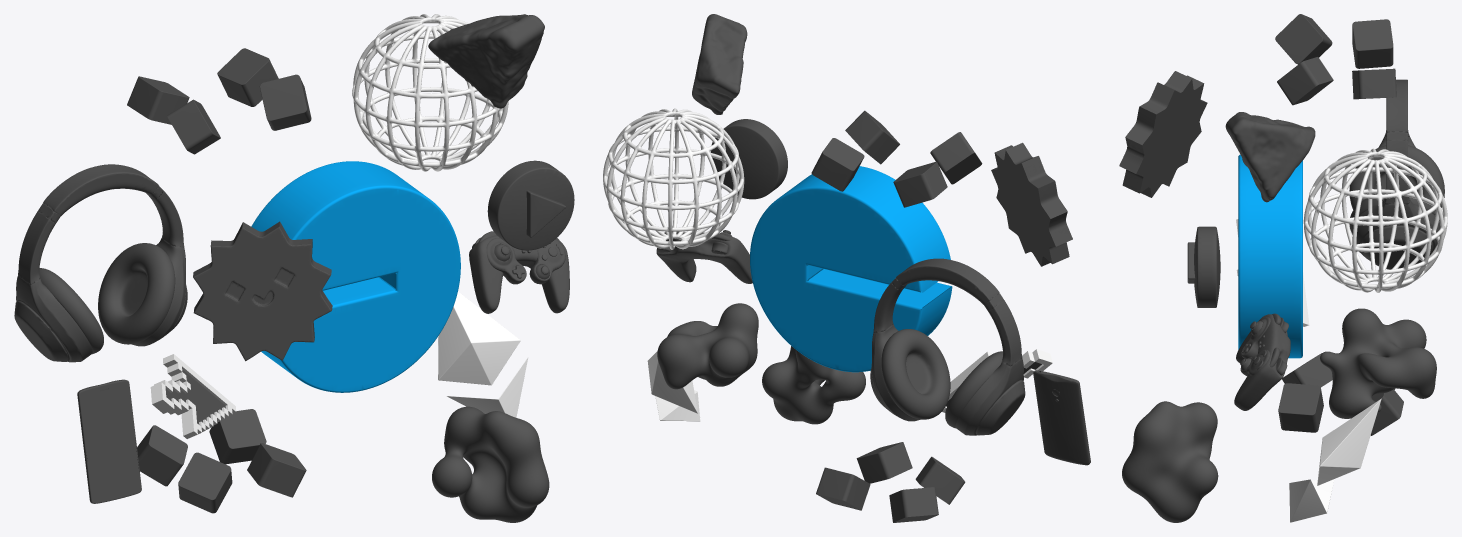
File: babylon_optimize_1.glb
3 renders of one model, left to right at view 1: azimuth 30°, elevation 25°; view 2: azimuth 150°, elevation 25°; view 3: azimuth 270°, elevation 25°, orthographic. The views are drawn at different scales.
Parts seen in each view (by area): view 1: Wallet, headphone, Spikey, Globe, Object_01, Object, ETH, Mobile Phone, Extrude, Controller, Cursor.1, Box_05 (+9 smaller); view 2: Wallet, headphone, Globe, Object_02, Boole, Object_01, Mobile Phone, Object, Extrude, Controller, ETH, Box_04 (+9 smaller); view 3: Globe, Wallet, Object_01, Object_02, headphone, Boole, Object, ETH, Controller, Extrude, Box_06, Box_03 (+6 smaller).
Part boxes in pixels (x1,y1,x2,y2): Wallet: (251,161,460,392); headphone: (14,164,187,362); Spikey: (193,223,331,360); Globe: (352,14,508,171); Object_01: (432,406,549,522); Object: (428,14,544,108); ETH: (438,291,528,417); Mobile Phone: (77,379,141,503); Extrude: (487,160,574,250); Controller: (469,231,569,313); Cursor.1: (150,354,236,438); Box_05: (178,452,232,513); Wallet: (750,166,952,372); headphone: (870,258,1025,435); Globe: (603,108,744,249); Object_02: (657,303,758,389); Boole: (991,142,1072,266); Object_01: (762,346,865,424); Mobile Phone: (1033,370,1090,465); Object: (692,14,747,114); Extrude: (710,119,787,199); Controller: (656,230,752,283); ETH: (647,351,700,421); Box_04: (811,138,864,191); Globe: (1303,148,1447,292); Wallet: (1238,154,1302,358); Object_01: (1122,401,1218,522); Object_02: (1320,308,1436,418); headphone: (1349,79,1444,269); Boole: (1119,71,1207,197); Object: (1225,112,1315,202); ETH: (1289,398,1381,522); Controller: (1234,313,1290,410); Extrude: (1187,226,1220,307); Box_06: (1278,383,1323,432); Box_03: (1352,19,1393,68).
Bounding box in the file's own units: 22.37 × 20.85 × 14.6.
